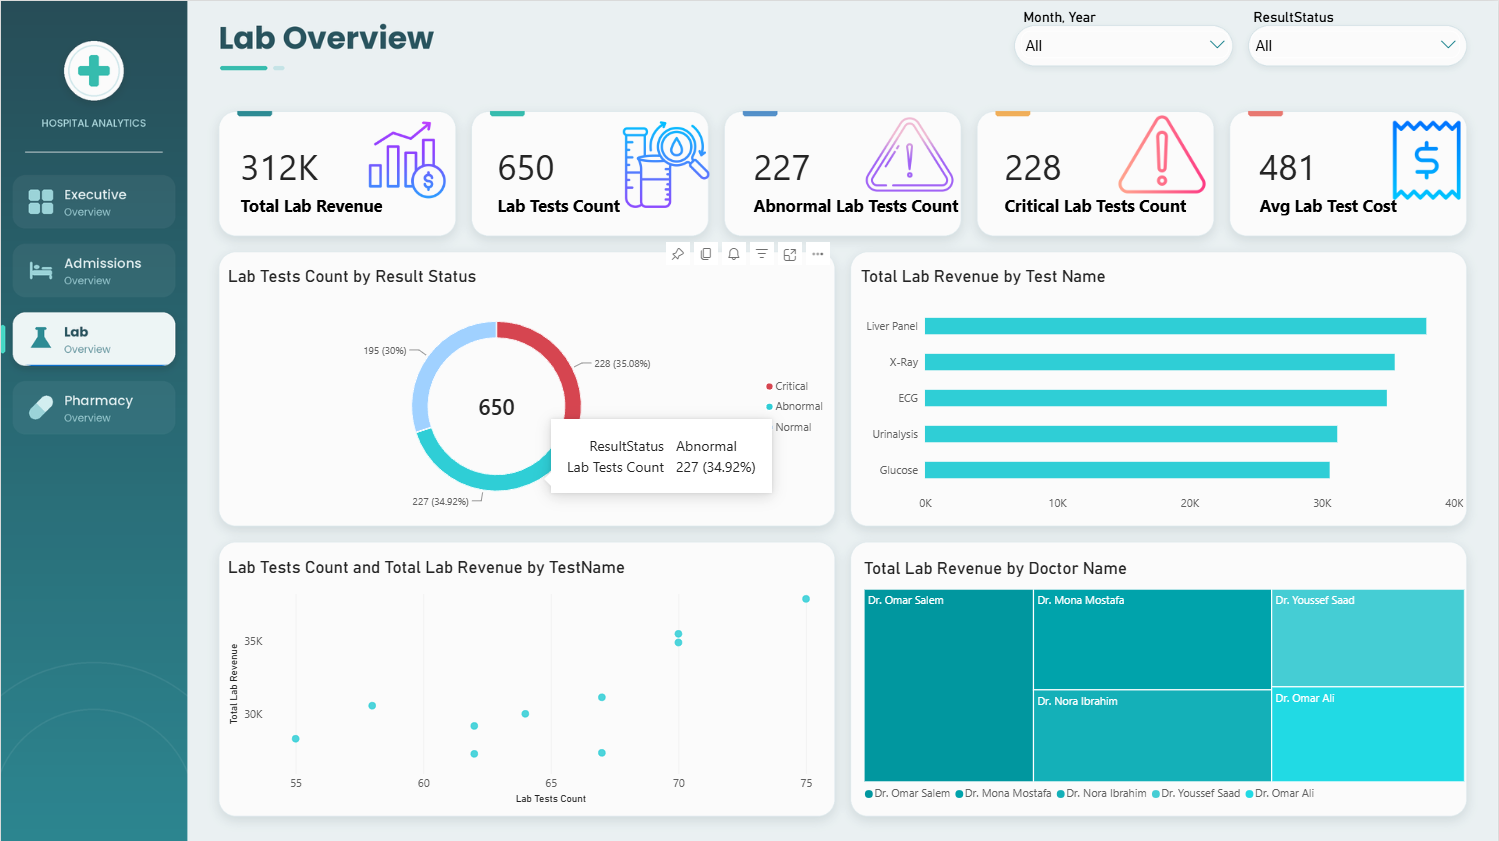

Layout of this report page (visuals, bound fields, positions):
{"tool":"powerbi","page":{"name":"Lab & Diagnostics Overview","canvas":[1920,1080],"ordinal":2},"visuals":[{"type":"cardVisual","fields":{"Data":["Dax_measures.Total Lab Revenue"]},"box":[291.5,144.4,316.7,168.3],"z":0},{"type":"cardVisual","fields":{"Data":["Dax_measures.Lab Tests Count"]},"box":[620.1,144.4,308.7,168.3],"z":1000},{"type":"cardVisual","fields":{"Data":["Dax_measures.Abnormal Lab Tests Count"]},"box":[948.7,144.4,306.1,168.3],"z":2000},{"type":"cardVisual","fields":{"Data":["Dax_measures.Critical Lab Tests Count"]},"box":[1270.7,144.4,308.7,168.3],"z":3000},{"type":"cardVisual","fields":{"Data":["Dax_measures.Avg Lab Test Cost"]},"box":[1598,144.4,303.4,168.3],"z":4000},{"type":"donutChart","title":"Lab Tests Count by Result Status","fields":{"Category":["fact_labtest.ResultStatus"],"Y":["Dax_measures.Lab Tests Count"]},"box":[303.4,377.6,781.8,319.3],"z":5000},{"type":"clusteredBarChart","title":"Total Lab Revenue by Test Name","fields":{"Category":["fact_labtest.TestName"],"Y":["Dax_measures.Total Lab Revenue"]},"box":[1115.7,377.6,785.8,319.3],"z":6000},{"type":"scatterChart","fields":{"Category":["fact_labtest.TestName"],"X":["Dax_measures.Lab Tests Count"],"Y":["Dax_measures.Total Lab Revenue"]},"box":[303.4,742,781.8,316.7],"z":7000},{"type":"treemap","title":"Total Lab Revenue by Doctor Name","fields":{"Group":["dim_doctors.DoctorName"],"Values":["Dax_measures.Total Lab Revenue"]},"box":[1115.7,742,785.8,316.7],"z":8000},{"type":"pageNavigator","box":[10.1,247,262.9,645.8],"z":9000},{"type":"slicer","fields":{"Values":["DimDate.Month","DimDate.Year"]},"box":[1282.6,27.8,284.7,85.4],"z":10000},{"type":"slicer","fields":{"Values":["fact_labtest.ResultStatus"]},"box":[1607.8,27.8,284.7,85.4],"z":11000},{"type":"image","box":[491.1,144.5,105.9,128.8],"z":11001},{"type":"image","box":[814.9,132.4,113.2,152.9],"z":11002},{"type":"image","box":[1452.9,132.4,136,128.8],"z":11003},{"type":"image","box":[1137.6,139.6,116.8,114.4],"z":11004},{"type":"image","box":[1790,144.5,130,133.6],"z":11005}]}

Visuals, with their boxes on the page's 1920x1080 design canvas (x1, y1, x2, y2). These are canvas units, not pixel positions in the 1499x841 screenshot, which may show the page scaled, cropped or inside an application window:
cardVisual - Dax_measures.Total Lab Revenue: 292, 144, 608, 313
cardVisual - Dax_measures.Lab Tests Count: 620, 144, 929, 313
cardVisual - Dax_measures.Abnormal Lab Tests Count: 949, 144, 1255, 313
cardVisual - Dax_measures.Critical Lab Tests Count: 1271, 144, 1579, 313
cardVisual - Dax_measures.Avg Lab Test Cost: 1598, 144, 1901, 313
"Lab Tests Count by Result Status" donutChart: 303, 378, 1085, 697
"Total Lab Revenue by Test Name" clusteredBarChart: 1116, 378, 1902, 697
scatterChart - fact_labtest.TestName x Dax_measures.Lab Tests Count: 303, 742, 1085, 1059
"Total Lab Revenue by Doctor Name" treemap: 1116, 742, 1902, 1059
pageNavigator: 10, 247, 273, 893
slicer - DimDate.Month x DimDate.Year: 1283, 28, 1567, 113
slicer - fact_labtest.ResultStatus: 1608, 28, 1892, 113
image: 491, 144, 597, 273
image: 815, 132, 928, 285
image: 1453, 132, 1589, 261
image: 1138, 140, 1254, 254
image: 1790, 144, 1920, 278
